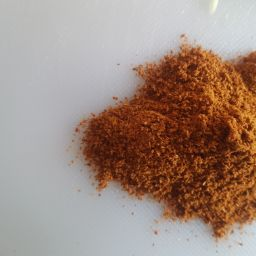Garam masala: (56, 91, 256, 244), (85, 59, 222, 242), (147, 25, 256, 250), (163, 80, 247, 208)
